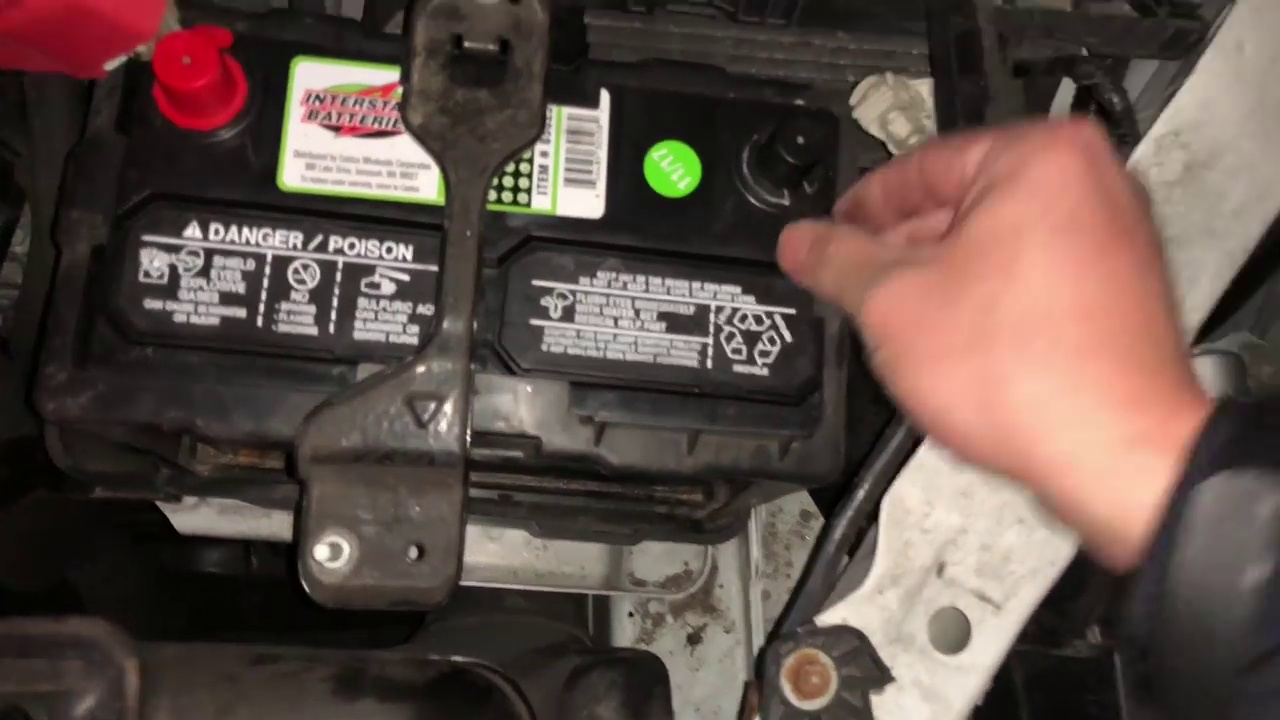battery: (102, 21, 834, 515)
pos_disconnected: (27, 1, 240, 130)
